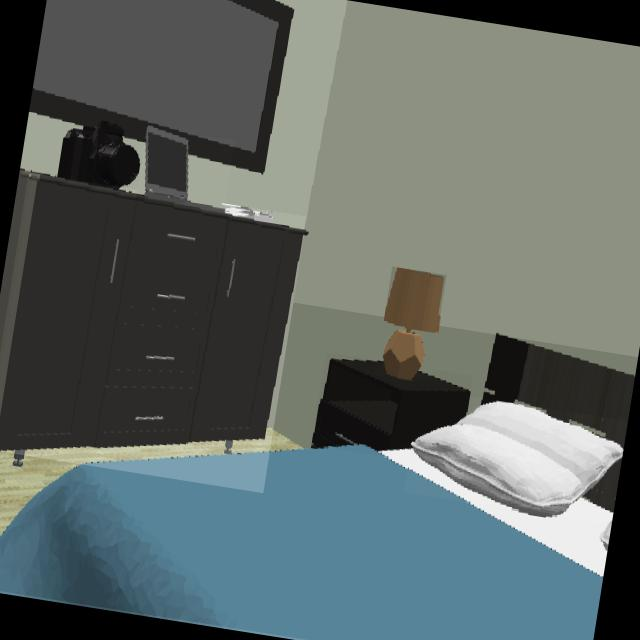bed: (0, 335, 635, 640)
cabinet: (0, 171, 304, 449)
lamp: (384, 268, 445, 380)
laptop: (148, 127, 223, 212)
nighttable: (312, 361, 470, 452)
pillow: (412, 402, 623, 515)
